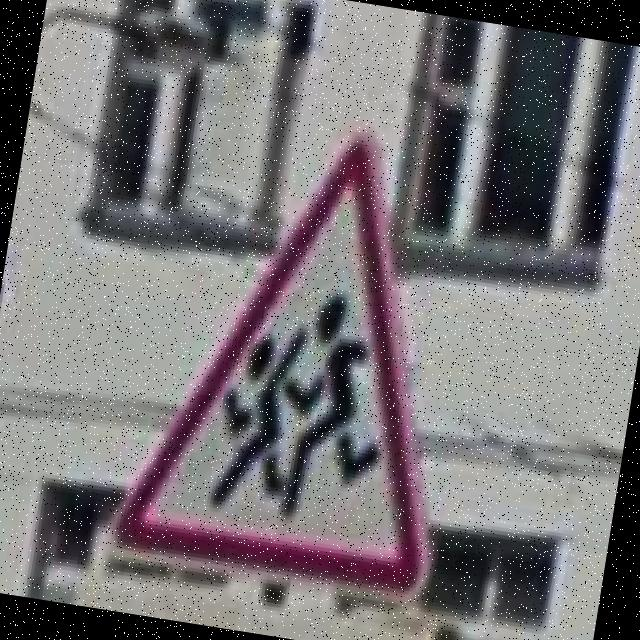Dzieci: (99, 103, 496, 612)
